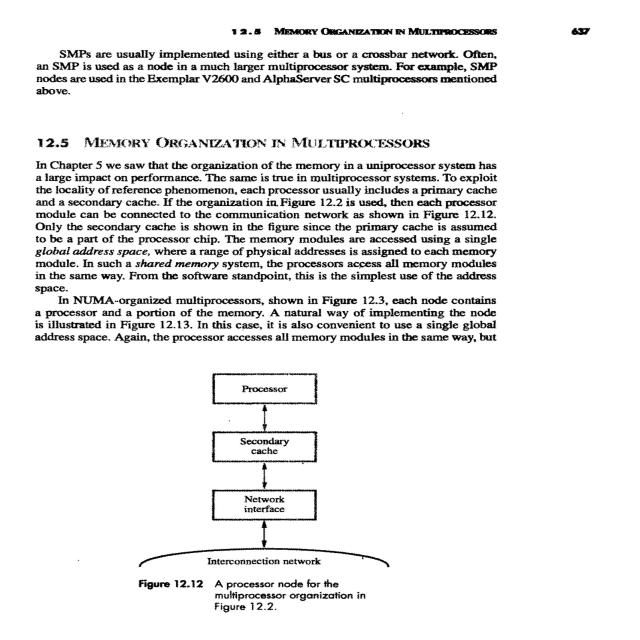diagram: (122, 358, 504, 640)
